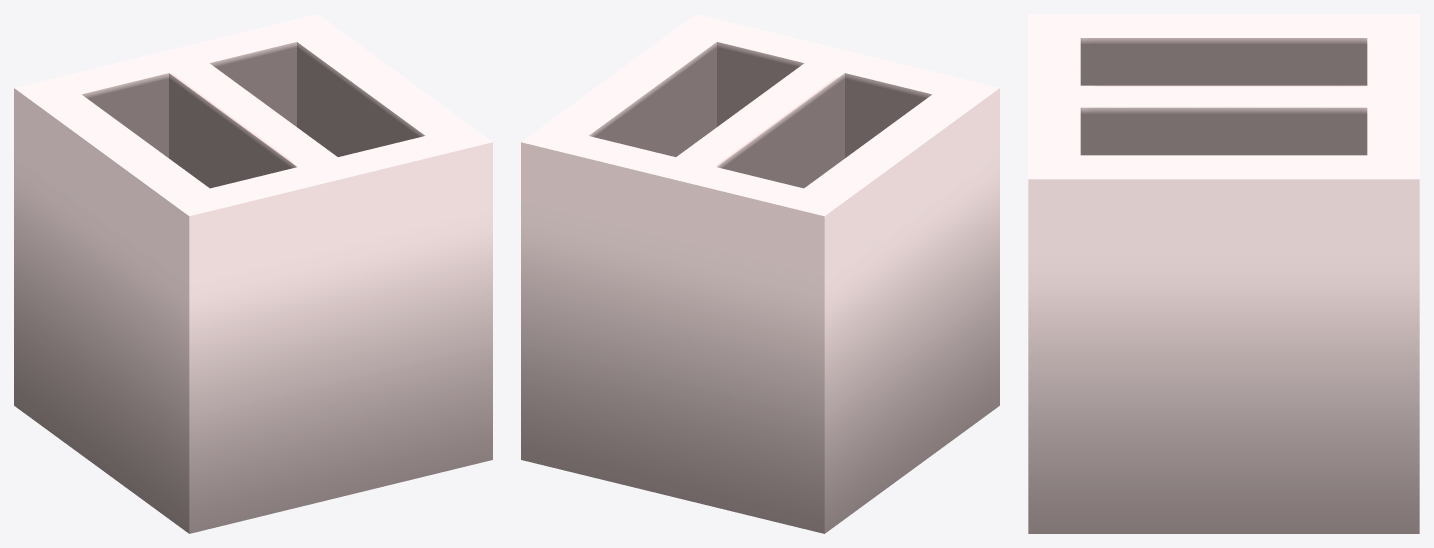
File: concrete_01.fbx
The picture shows the model from 3 angles, left to right: view 1: azimuth 30°, elevation 25°; view 2: azimuth 150°, elevation 25°; view 3: azimuth 270°, elevation 25°; orthographic projection. The views are drawn at different scales.
Parts seen in each view (by area): view 1: concrete_01; view 2: concrete_01; view 3: concrete_01.
Boxes of the visible parts, <box> form: concrete_01: <box>14,14,492,533</box>; concrete_01: <box>521,14,999,533</box>; concrete_01: <box>1028,14,1419,533</box>.
Size of the model in its own units: 0.3 by 0.3 by 0.3.
